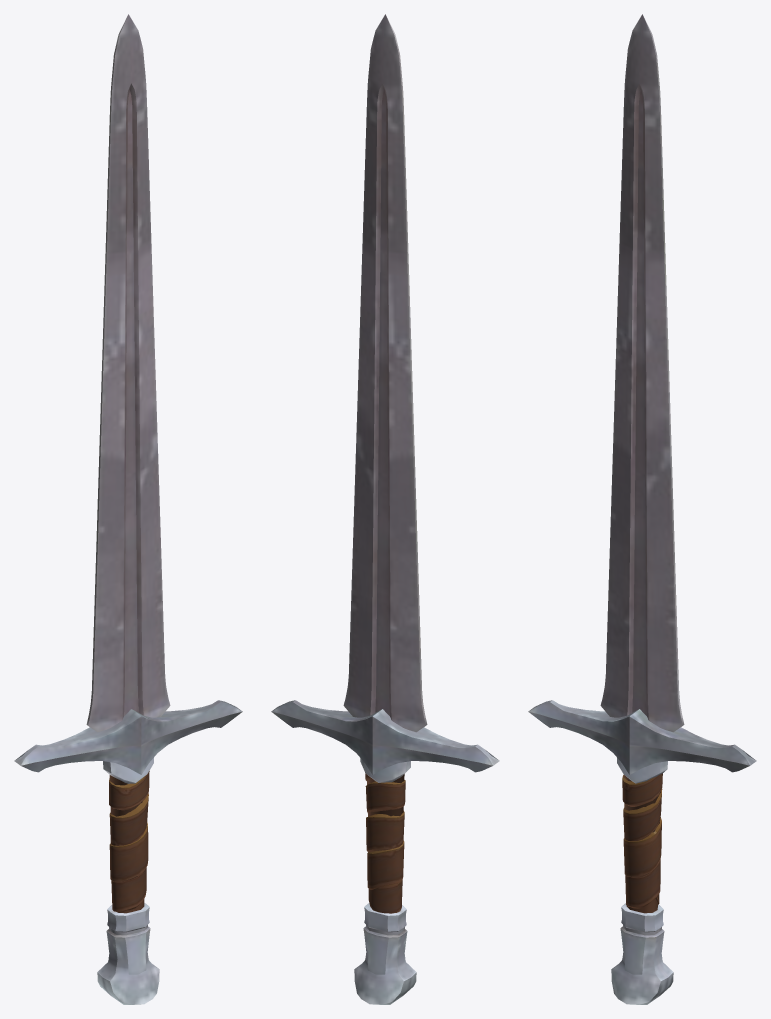
The model's file is Sword_Steel.gltf.
The picture shows the model from 3 angles, left to right: view 1: azimuth 30°, elevation 25°; view 2: azimuth 150°, elevation 25°; view 3: azimuth 330°, elevation 25°; orthographic projection.
Visible parts, largest first — view 1: Sword_Steel; view 2: Sword_Steel; view 3: Sword_Steel.
Boxes of the visible parts, x1,y1,x2,y2 form: Sword_Steel: (14, 14, 242, 1004); Sword_Steel: (271, 14, 499, 1004); Sword_Steel: (528, 14, 756, 1004).
Size of the model in its own units: 0.2666 by 1.13 by 0.0654.
1 material, 1 textured.
